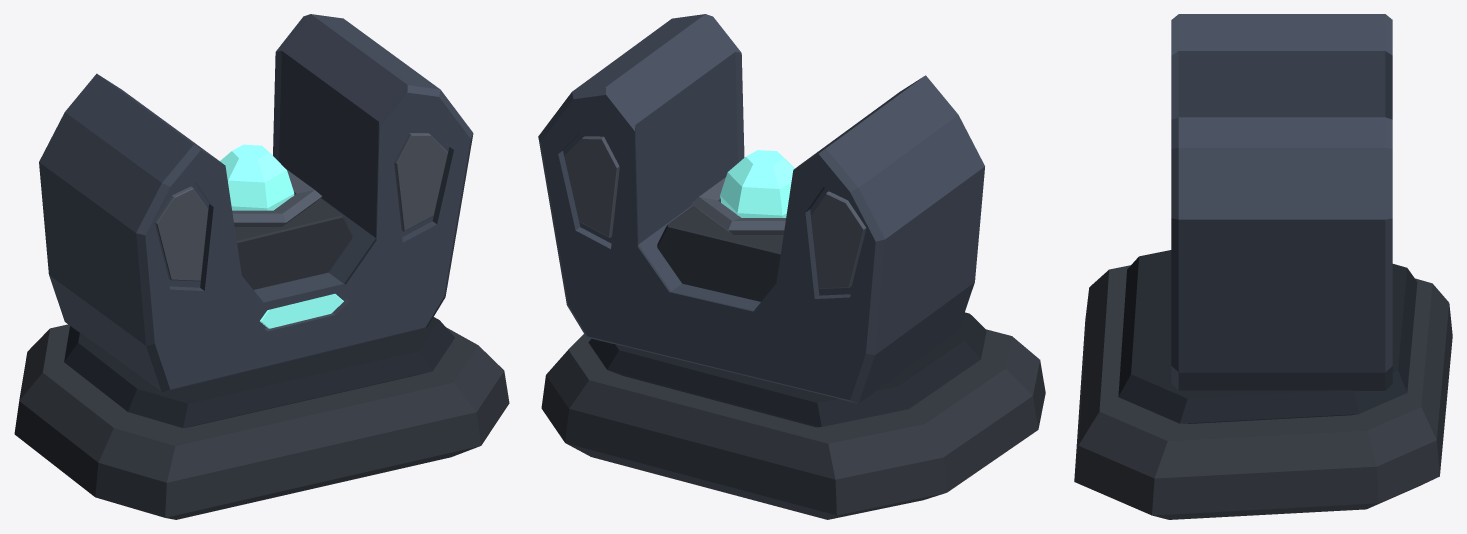
Rendered from Recall.fbx.
3 views of the same model, side by side, from view 1: azimuth 30°, elevation 25°; view 2: azimuth 150°, elevation 25°; view 3: azimuth 270°, elevation 25° (orthographic). The views are drawn at different scales.
Visible parts, largest first — view 1: Crown, Skid.001, BaseSeat, CoreBase, Bank_RightFront, Bank_LeftFront, Core, PhaseRing, Light_Energy.002; view 2: Crown, Skid.001, BaseSeat, CoreBase, Bank_RightRear, Bank_LeftRear, Core, PhaseRing; view 3: Crown, Skid.001, BaseSeat.
Boxes of the visible parts, box(x1,y1,x2,y2) form: Crown: box(39, 14, 473, 392); Skid.001: box(14, 324, 509, 519); BaseSeat: box(64, 317, 454, 427); CoreBase: box(234, 198, 352, 289); Bank_RightFront: box(394, 133, 447, 231); Bank_LeftFront: box(154, 186, 207, 281); Core: box(220, 144, 294, 210); PhaseRing: box(232, 168, 322, 226); Light_Energy.002: box(260, 294, 343, 328); Crown: box(538, 14, 984, 403); Skid.001: box(541, 329, 1045, 519); BaseSeat: box(588, 312, 986, 427); CoreBase: box(657, 205, 783, 301); Bank_RightRear: box(564, 136, 619, 237); Bank_LeftRear: box(811, 191, 866, 288); Core: box(720, 150, 794, 217); PhaseRing: box(691, 177, 785, 234); Crown: box(1171, 14, 1392, 390); Skid.001: box(1074, 265, 1452, 519); BaseSeat: box(1118, 250, 1417, 423).
Size of the model in its own units: 0.818 by 0.667 by 0.619.
